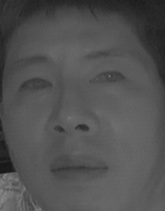eye: (87, 68, 128, 89), (15, 74, 54, 96)
mouth: (47, 148, 110, 188)
